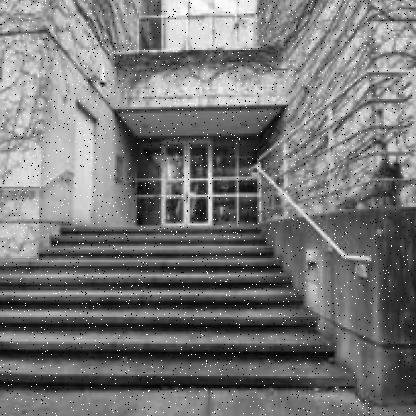stair_up: (22, 282, 311, 416)
